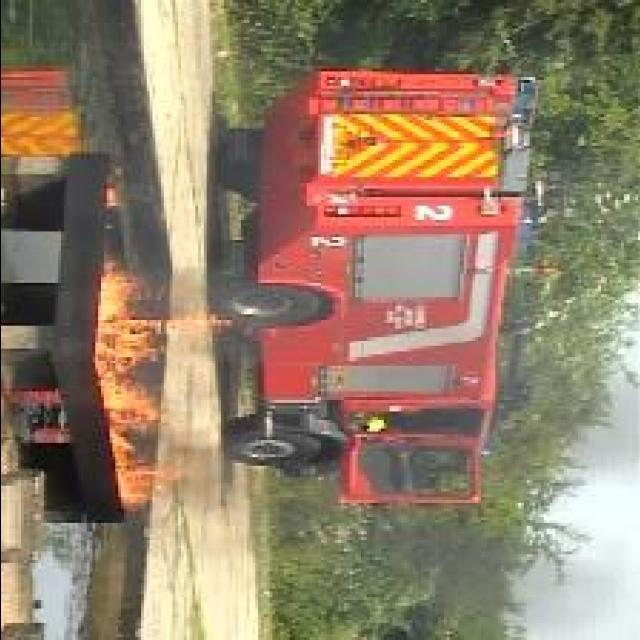Fire: (93, 264, 233, 507)
